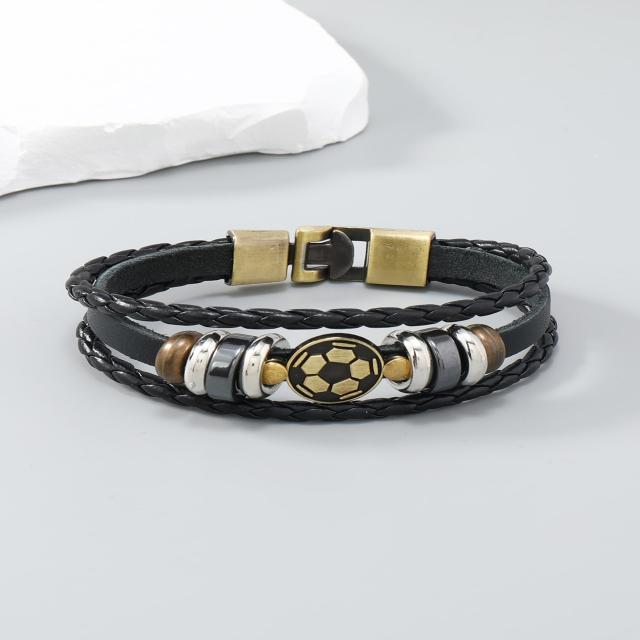bracelet: (21, 189, 558, 465)
